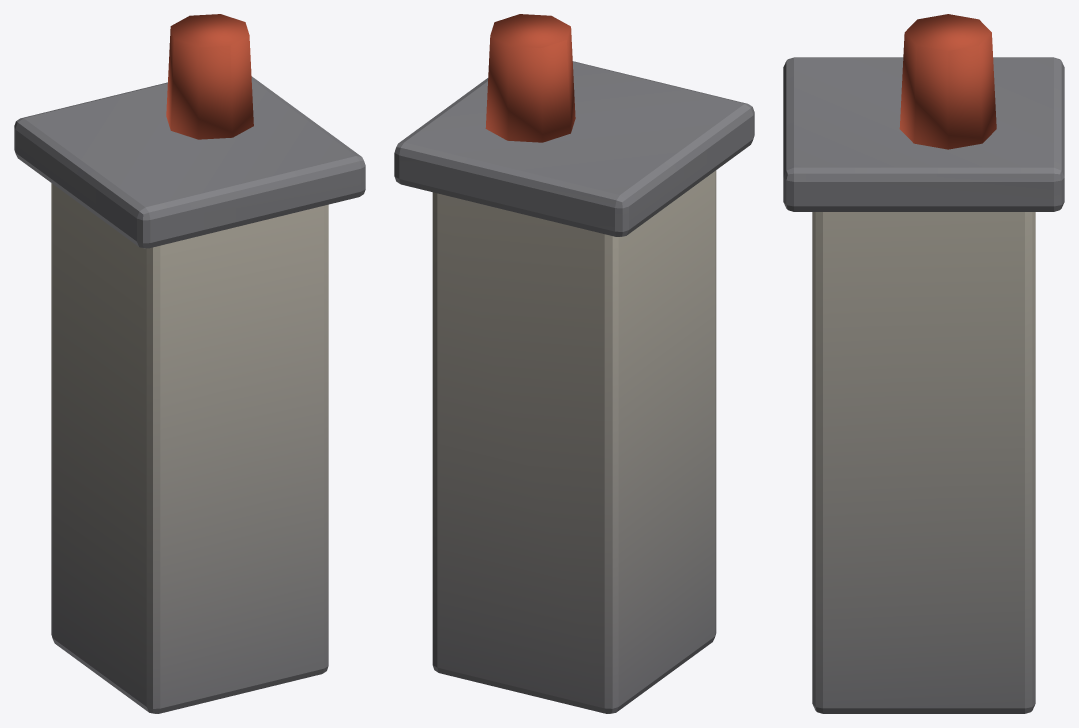
File: chimney.glb
The picture shows the model from 3 angles, left to right: view 1: azimuth 30°, elevation 25°; view 2: azimuth 150°, elevation 25°; view 3: azimuth 270°, elevation 25°; orthographic projection. The views are drawn at different scales.
Parts seen in each view (by area): view 1: Chimney; view 2: Chimney; view 3: Chimney.
Part boxes in pixels (x1,y1,x2,y2): Chimney: (14,14,365,713); Chimney: (394,14,754,713); Chimney: (783,14,1064,713).
Size of the model in its own units: 0.58 by 1.49 by 0.58.
